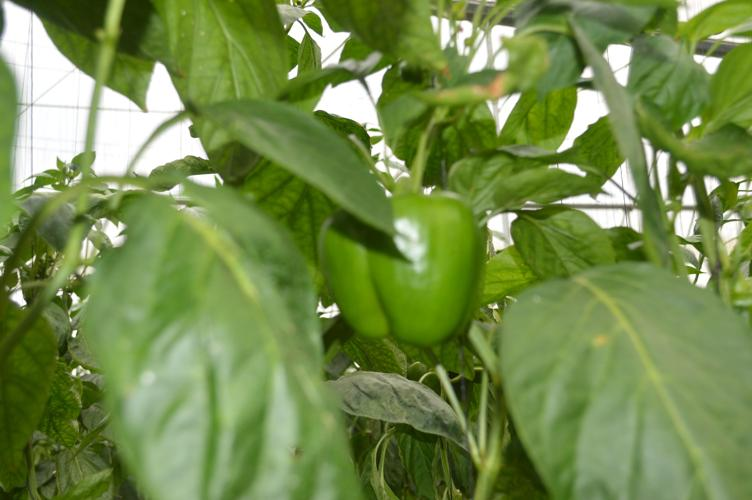BellPepper: (318, 198, 476, 344)
